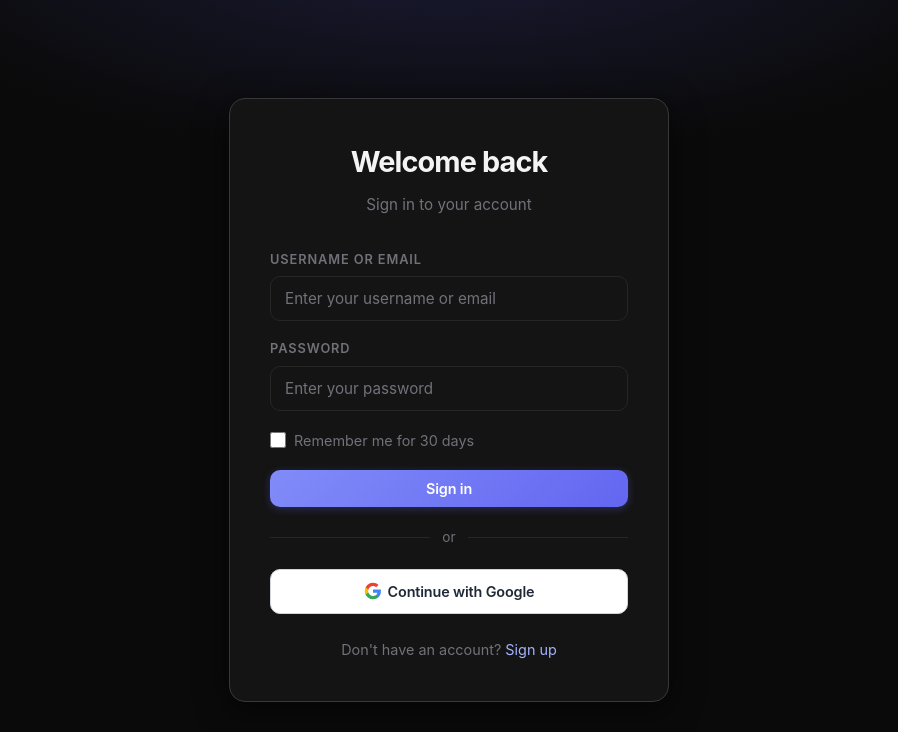
Test: LoginPage › Client-side validation › shows error when password is empty
Type "testuser" into the field with placeholder "Enter your username or email" at (449, 299), box x1=270 y1=276 x2=628 y2=321
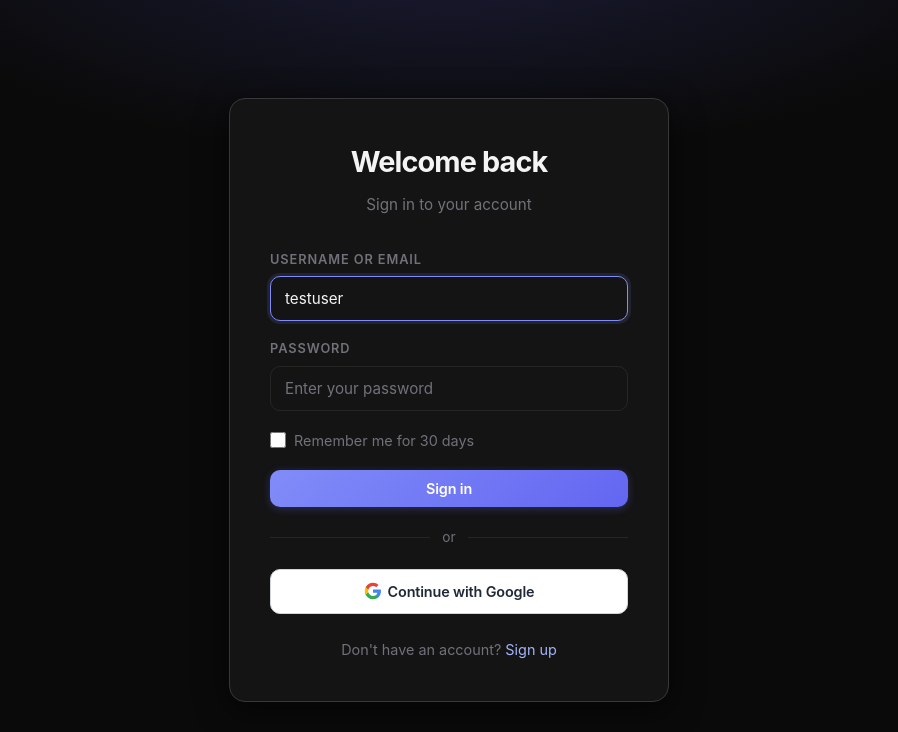
Click the button "Sign in" at (449, 488), box x1=270 y1=470 x2=628 y2=507
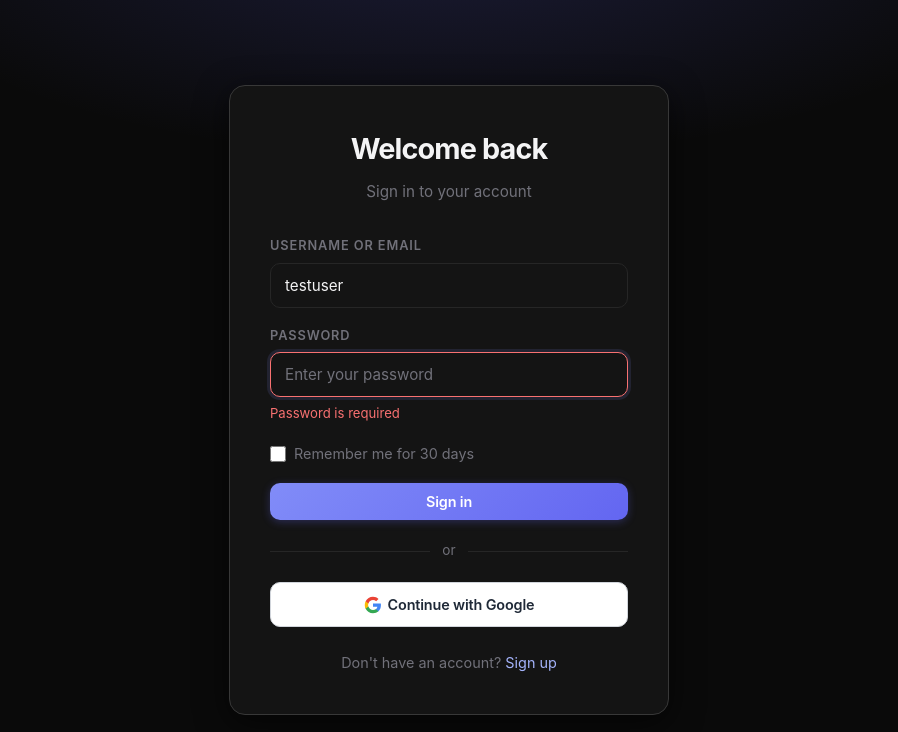
Expected: the text "Password is required" is shown, x1=270 y1=405 x2=400 y2=421
